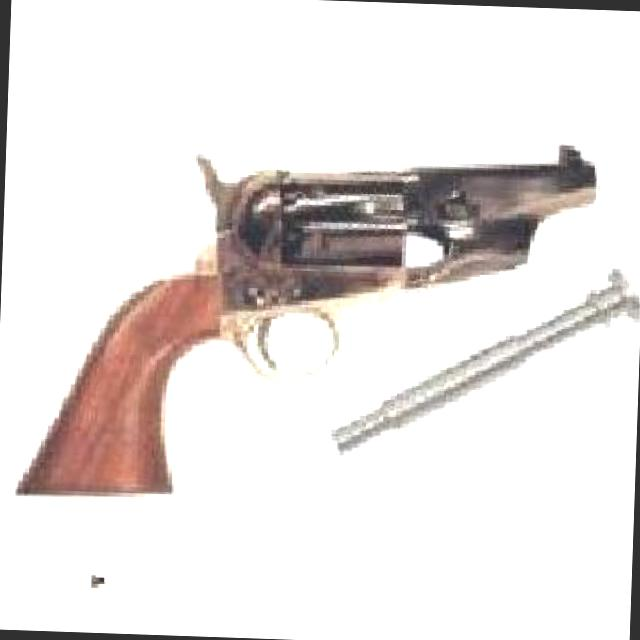handgun: (9, 120, 598, 514)
